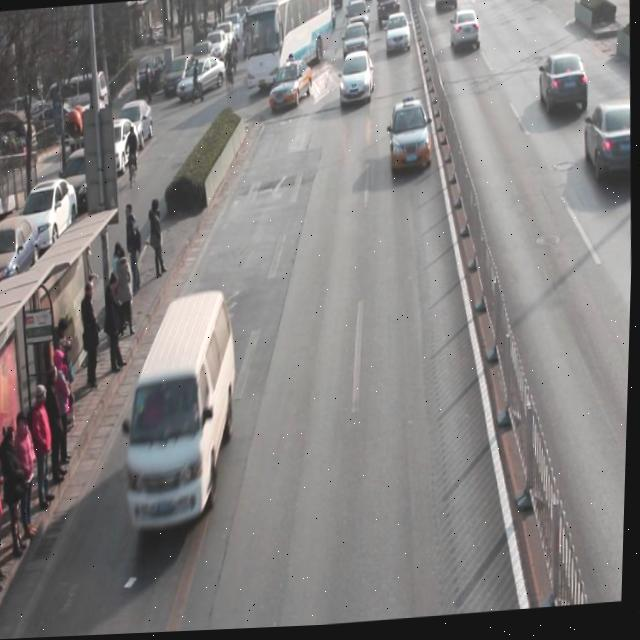car: (583, 102, 634, 190), (538, 54, 591, 123), (388, 101, 435, 174), (267, 61, 315, 115), (337, 52, 374, 111), (449, 11, 482, 56), (342, 24, 372, 68), (383, 14, 411, 59), (344, 0, 370, 40), (376, 0, 402, 29), (433, 0, 459, 17)
truck: (122, 288, 246, 533)
van: (243, 0, 333, 94)
